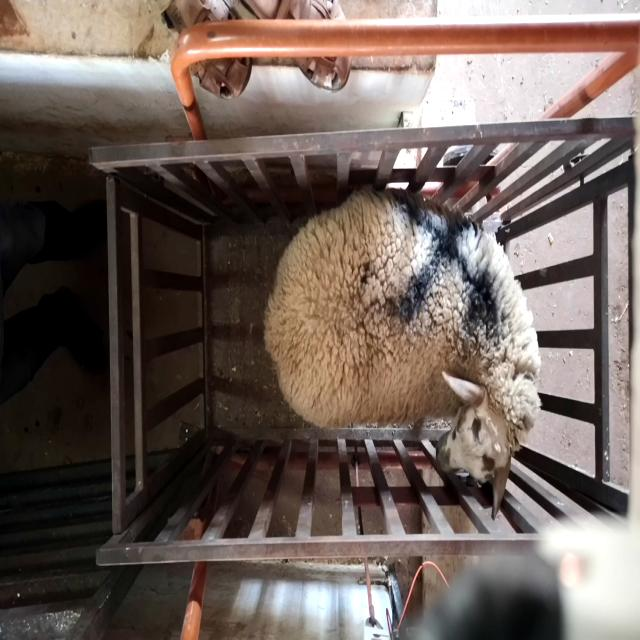sheep: (264, 188, 542, 520)
